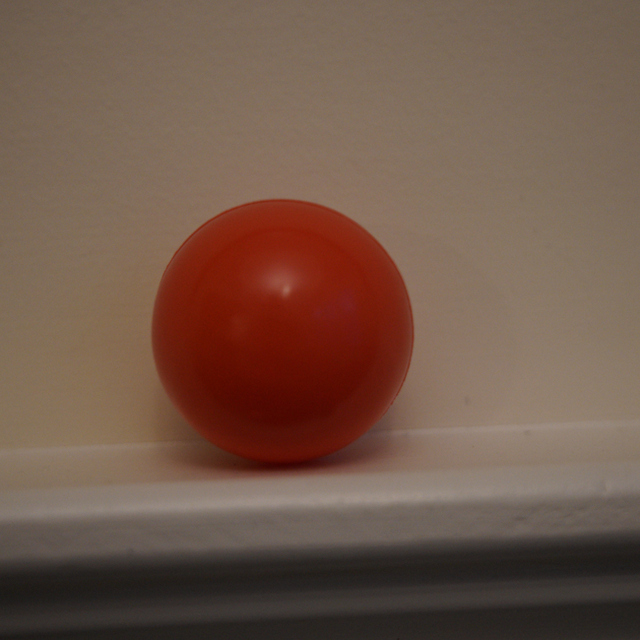Ball: (152, 197, 418, 463)
